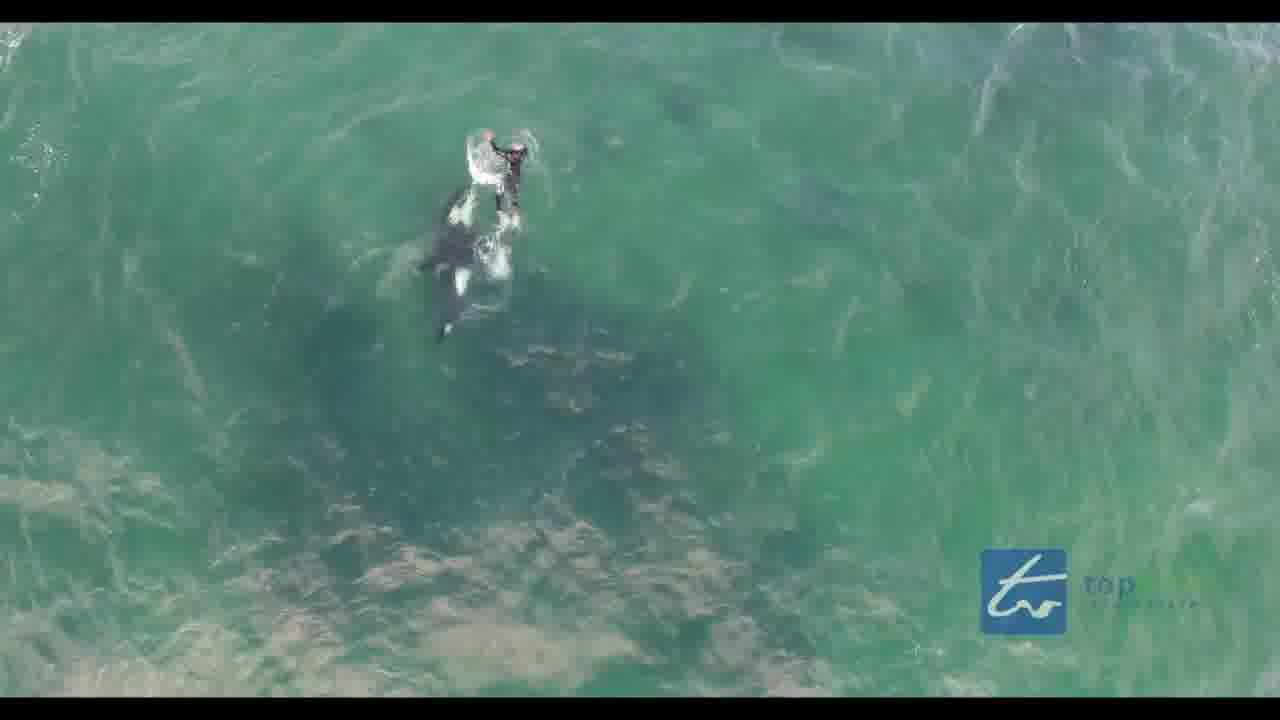human: (477, 124, 541, 231)
